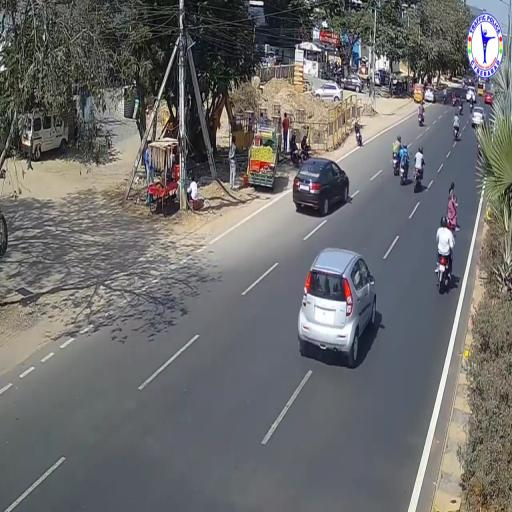小汽车: (300, 244, 378, 360), (292, 158, 352, 219), (470, 106, 484, 128)
自行车: (438, 211, 456, 297), (400, 142, 410, 186), (415, 148, 425, 190), (394, 136, 402, 174), (452, 112, 462, 142), (418, 100, 424, 126)
